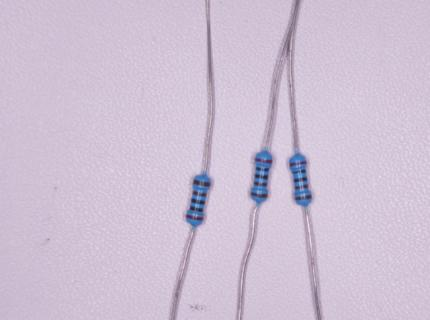Black band: (189, 206, 204, 213), (191, 198, 205, 205), (256, 166, 269, 172), (292, 169, 306, 174), (255, 174, 268, 179), (294, 177, 307, 182)
Brown band: (193, 179, 211, 187), (250, 192, 268, 198), (193, 191, 207, 197), (294, 184, 308, 190), (295, 195, 311, 200), (253, 182, 267, 187)
Red band: (186, 215, 204, 221), (255, 158, 272, 164), (290, 160, 307, 166)
